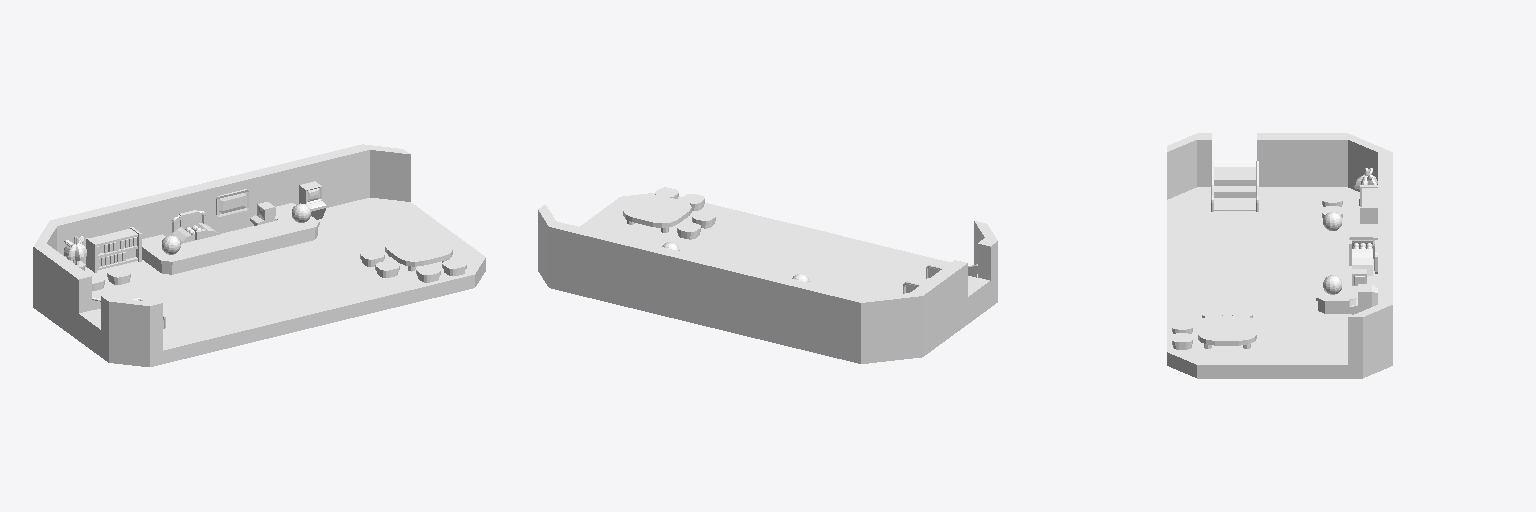
The model's file is RSE_Pokecenter.obj.
3 views of the same model, side by side, from view 1: azimuth 30°, elevation 25°; view 2: azimuth 150°, elevation 25°; view 3: azimuth 270°, elevation 25° (orthographic).
Visible parts, largest first — view 1: Floor, Wall, Balcony, Bookshelf, Table, Map, HealingMachine, Carpet, PC_02, TV, Occlusion; view 2: Wall, Floor, Table, Carpet; view 3: Floor, Wall, Balcony, Escalator, Table, Carpet, HealingMachine, Bookshelf, Occlusion, PC_02.
Part boxes in pixels (left/top/right/bottom): Floor: left=85, top=198, right=485, bottom=363; Wall: left=33, top=144, right=410, bottom=366; Balcony: left=142, top=203, right=319, bottom=274; Bookshelf: left=86, top=227, right=141, bottom=272; Table: left=385, top=233, right=452, bottom=271; Map: left=323, top=160, right=365, bottom=192; HealingMachine: left=171, top=210, right=219, bottom=243; Carpet: left=279, top=295, right=343, bottom=318; PC_02: left=299, top=181, right=326, bottom=219; TV: left=216, top=189, right=248, bottom=216; Occlusion: left=88, top=190, right=466, bottom=291; Wall: left=538, top=204, right=997, bottom=363; Floor: left=580, top=193, right=977, bottom=296; Table: left=623, top=195, right=691, bottom=232; Carpet: left=777, top=224, right=842, bottom=246; Floor: left=1167, top=187, right=1377, bottom=378; Wall: left=1167, top=133, right=1392, bottom=378; Balcony: left=1316, top=224, right=1377, bottom=313; Escalator: left=1211, top=161, right=1258, bottom=211; Table: left=1198, top=316, right=1256, bottom=348; Carpet: left=1167, top=263, right=1196, bottom=288; HealingMachine: left=1349, top=228, right=1377, bottom=275; Bookshelf: left=1360, top=185, right=1377, bottom=223; Occlusion: left=1172, top=205, right=1376, bottom=350; PC_02: left=1349, top=284, right=1377, bottom=314.
Size of the model in its own units: 14.5 by 2.26 by 7.5.